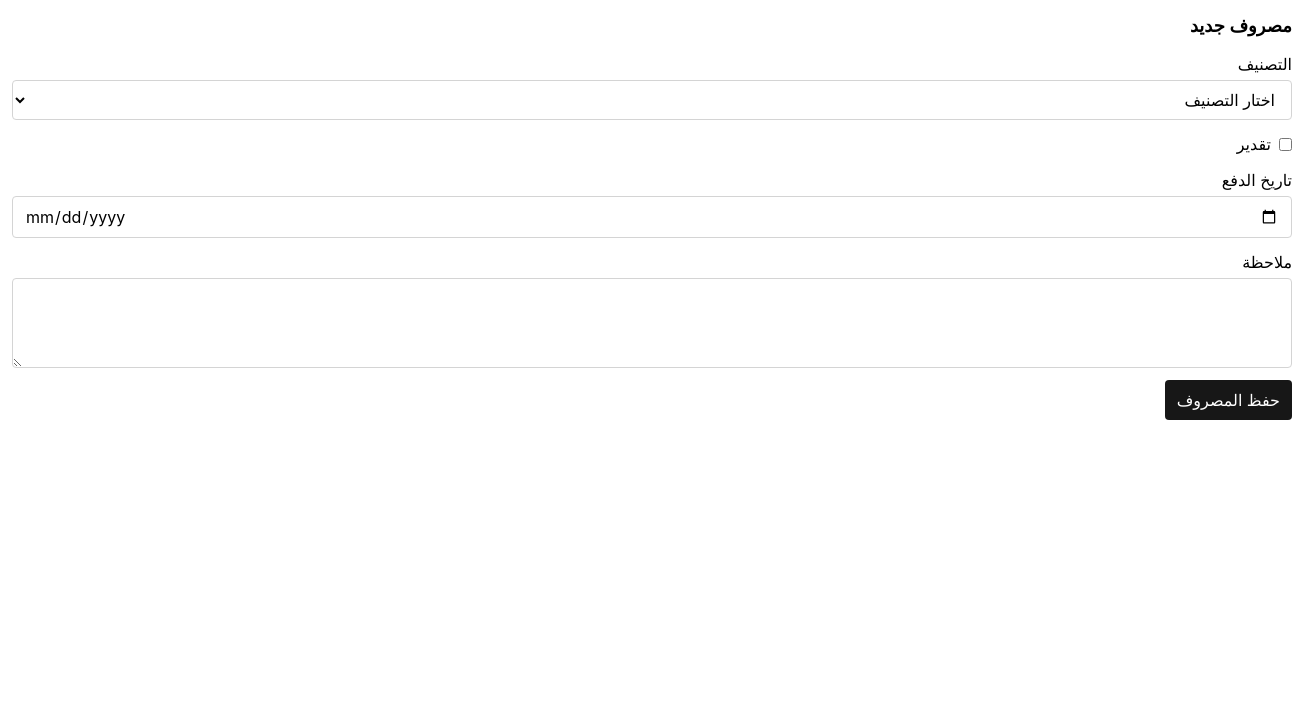
Test: ExpenseForm › changes the fields with the category kind
Select "إيجار" in the dropdown labelled "التصنيف" at (652,100), box [12,80,1292,120]
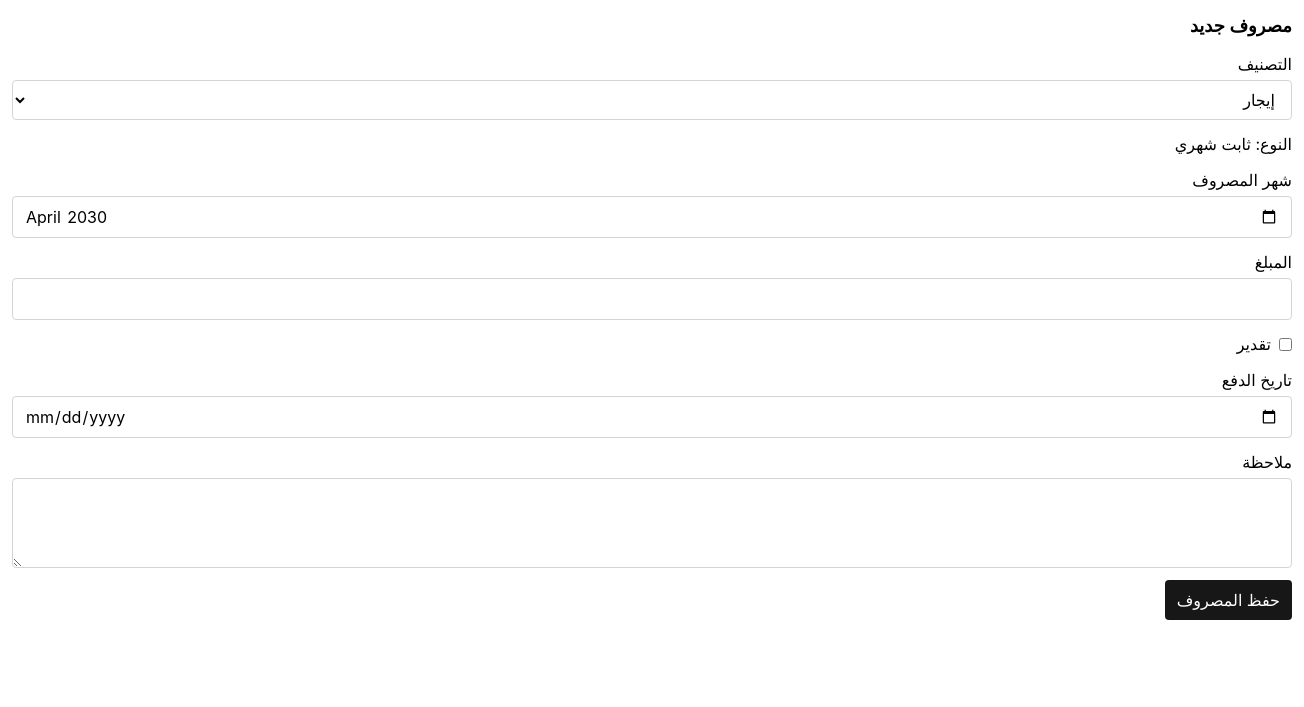
Expected: the field labelled "التاريخ" is not shown
Now the field labelled "شهر المصروف" is shown, box [12,196,1292,238]
Select "غاز" in the dropdown labelled "التصنيف" at (652,100), box [12,80,1292,120]
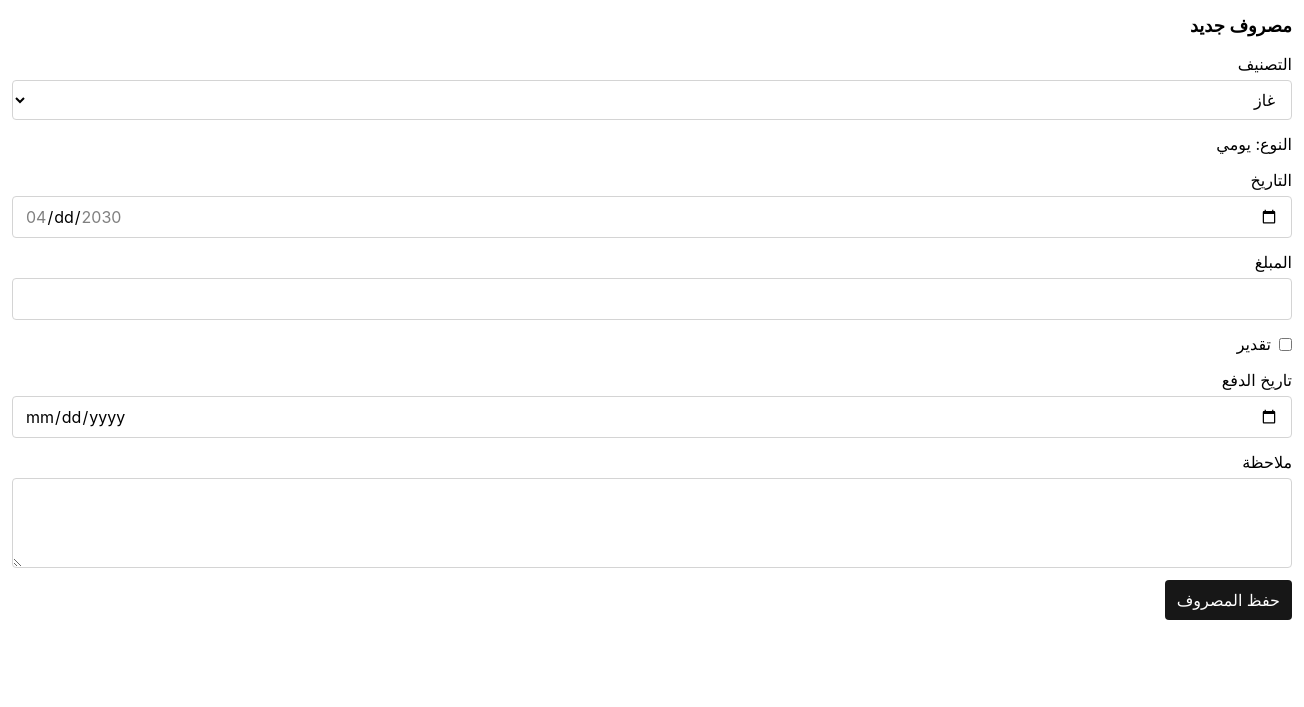
Expected: the field labelled "الساعات" is not shown
Now the date field labelled "التاريخ" is shown, box [12,196,1292,238]
Now the label labelled "شهر المصروف" is gone
Select "أجر طيارين" in the dropdown labelled "التصنيف" at (652,100), box [12,80,1292,120]
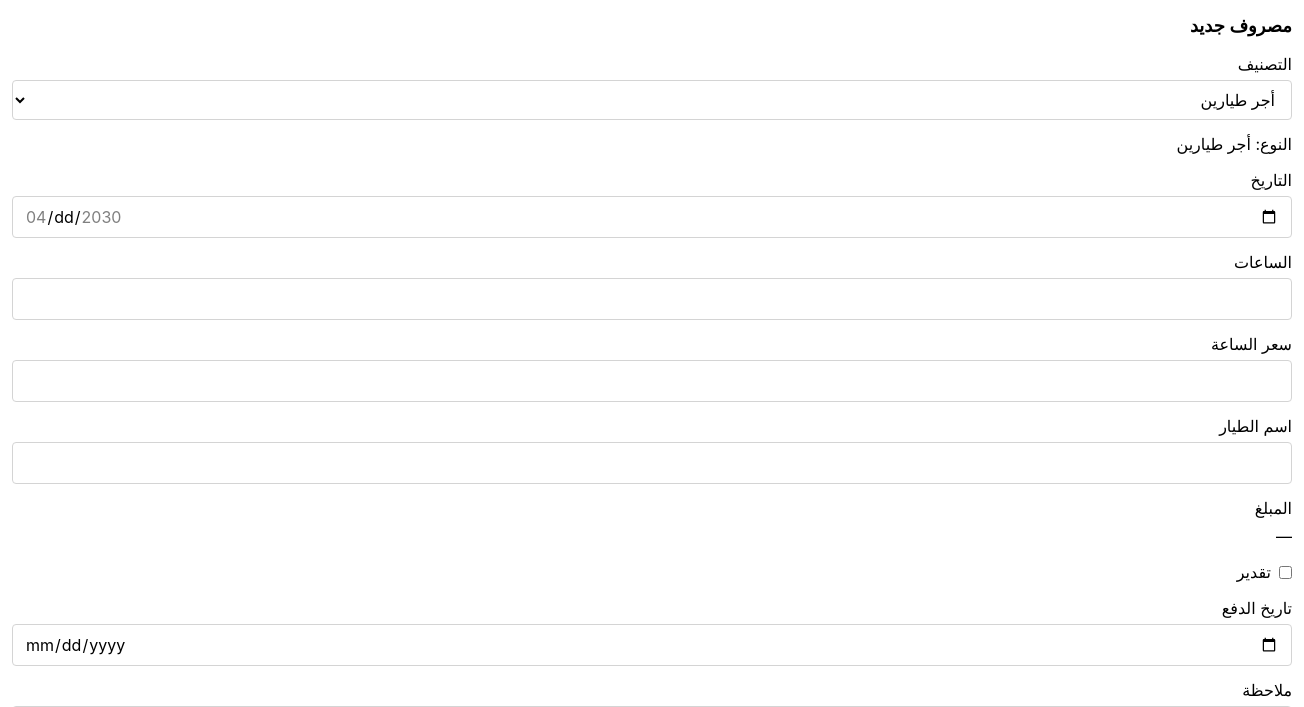
Now the field labelled "الساعات" is shown, box [12,278,1292,320]
Now the field labelled "سعر الساعة" is shown, box [12,360,1292,402]
